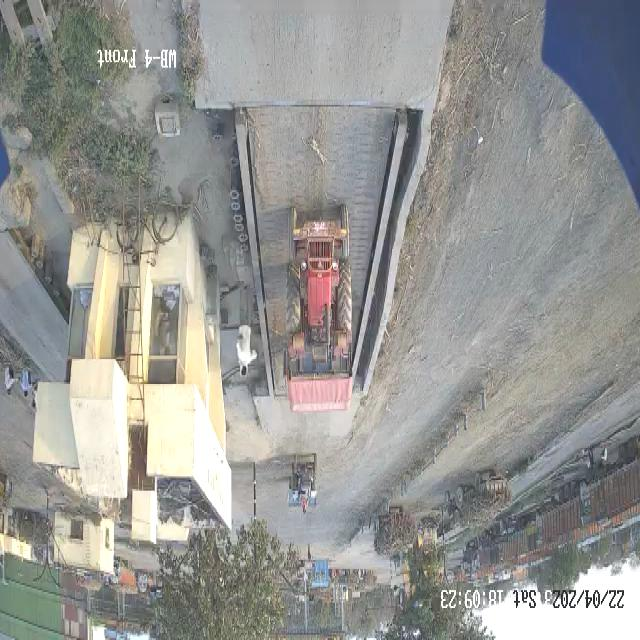Tratores - v5 YOLO V8L 2024-11-13: (280, 199, 364, 354), (284, 456, 324, 508)
